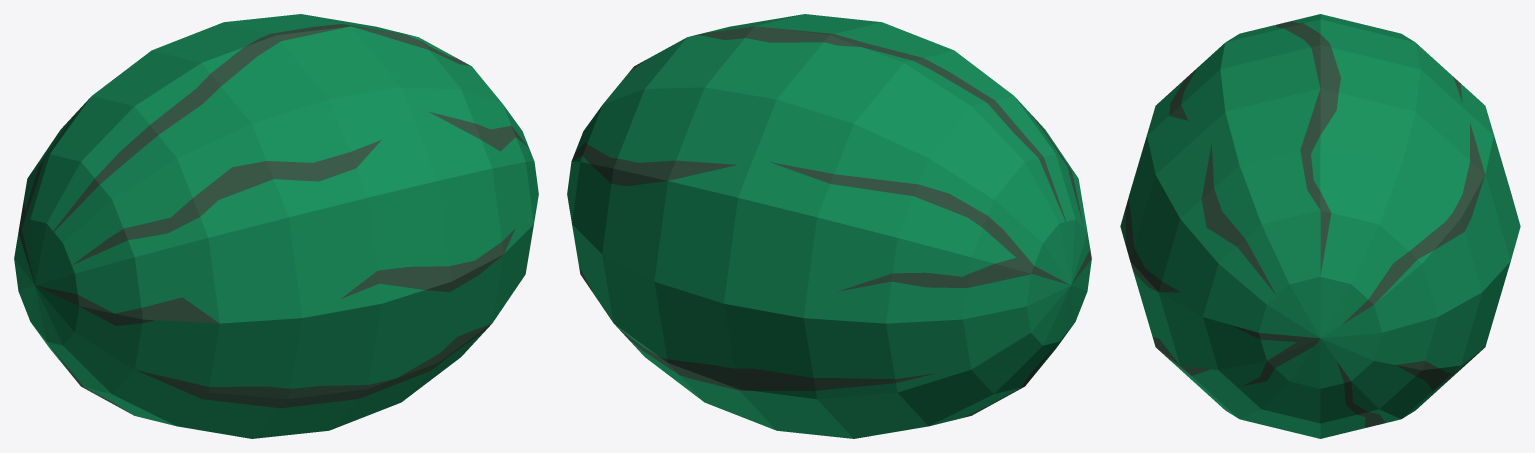
The model's file is watermelon.glb.
3 views of the same model, side by side, from view 1: azimuth 30°, elevation 25°; view 2: azimuth 150°, elevation 25°; view 3: azimuth 270°, elevation 25° (orthographic). The views are drawn at different scales.
Visible parts, largest first — view 1: watermelon; view 2: watermelon; view 3: watermelon.
Boxes of the visible parts, box(x1,y1,x2,y2) form: watermelon: box(14, 14, 538, 438); watermelon: box(567, 14, 1091, 438); watermelon: box(1120, 14, 1520, 438).
Bounding box in the file's own units: 2.64 × 2 × 2.
1 material, 1 textured.
